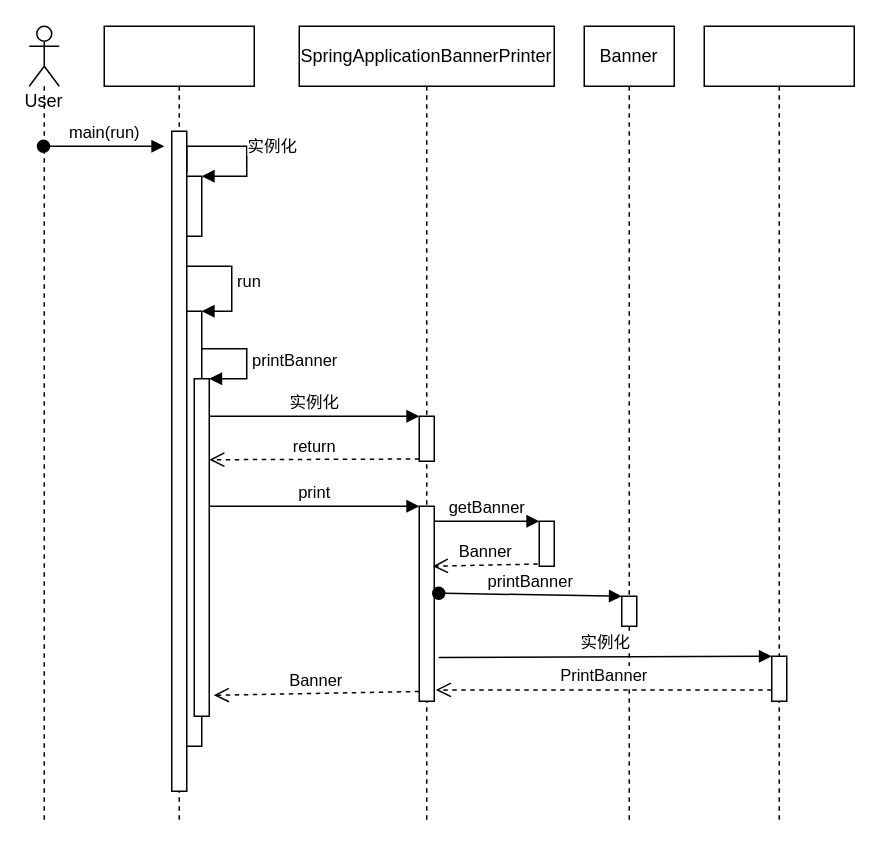
The diagram is 881 pixels wide and 848 high, and some of its shapes have lost their labels. The shapes that lost their labels are listed below. From the top down, each one's box as (x1, y1, x2, y2) in pixels, then its label:
(103, 25, 254, 821): SpringApplication
(703, 25, 854, 821): PrintedBanner
